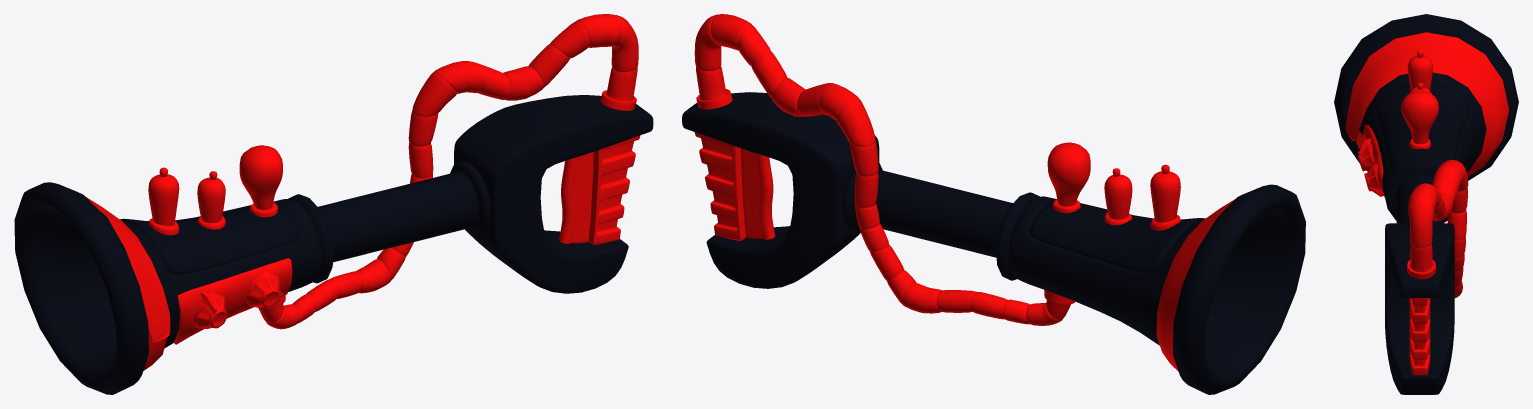
File: Weapon.dae
3 views of the same model, side by side, from view 1: azimuth 30°, elevation 25°; view 2: azimuth 150°, elevation 25°; view 3: azimuth 270°, elevation 25° (orthographic). The views are drawn at different scales.
Parts seen in each view (by area): view 1: Cylinder001 (×2); view 2: Cylinder001 (×2); view 3: Cylinder001 (×2).
Part boxes in pixels (bbox=[...]): Cylinder001 (×2): bbox=[14, 14, 653, 394]; Cylinder001 (×2): bbox=[682, 14, 1305, 394]; Cylinder001 (×2): bbox=[1334, 14, 1518, 394].
Bounding box in the file's own units: 2 × 0.8417 × 0.6718.
